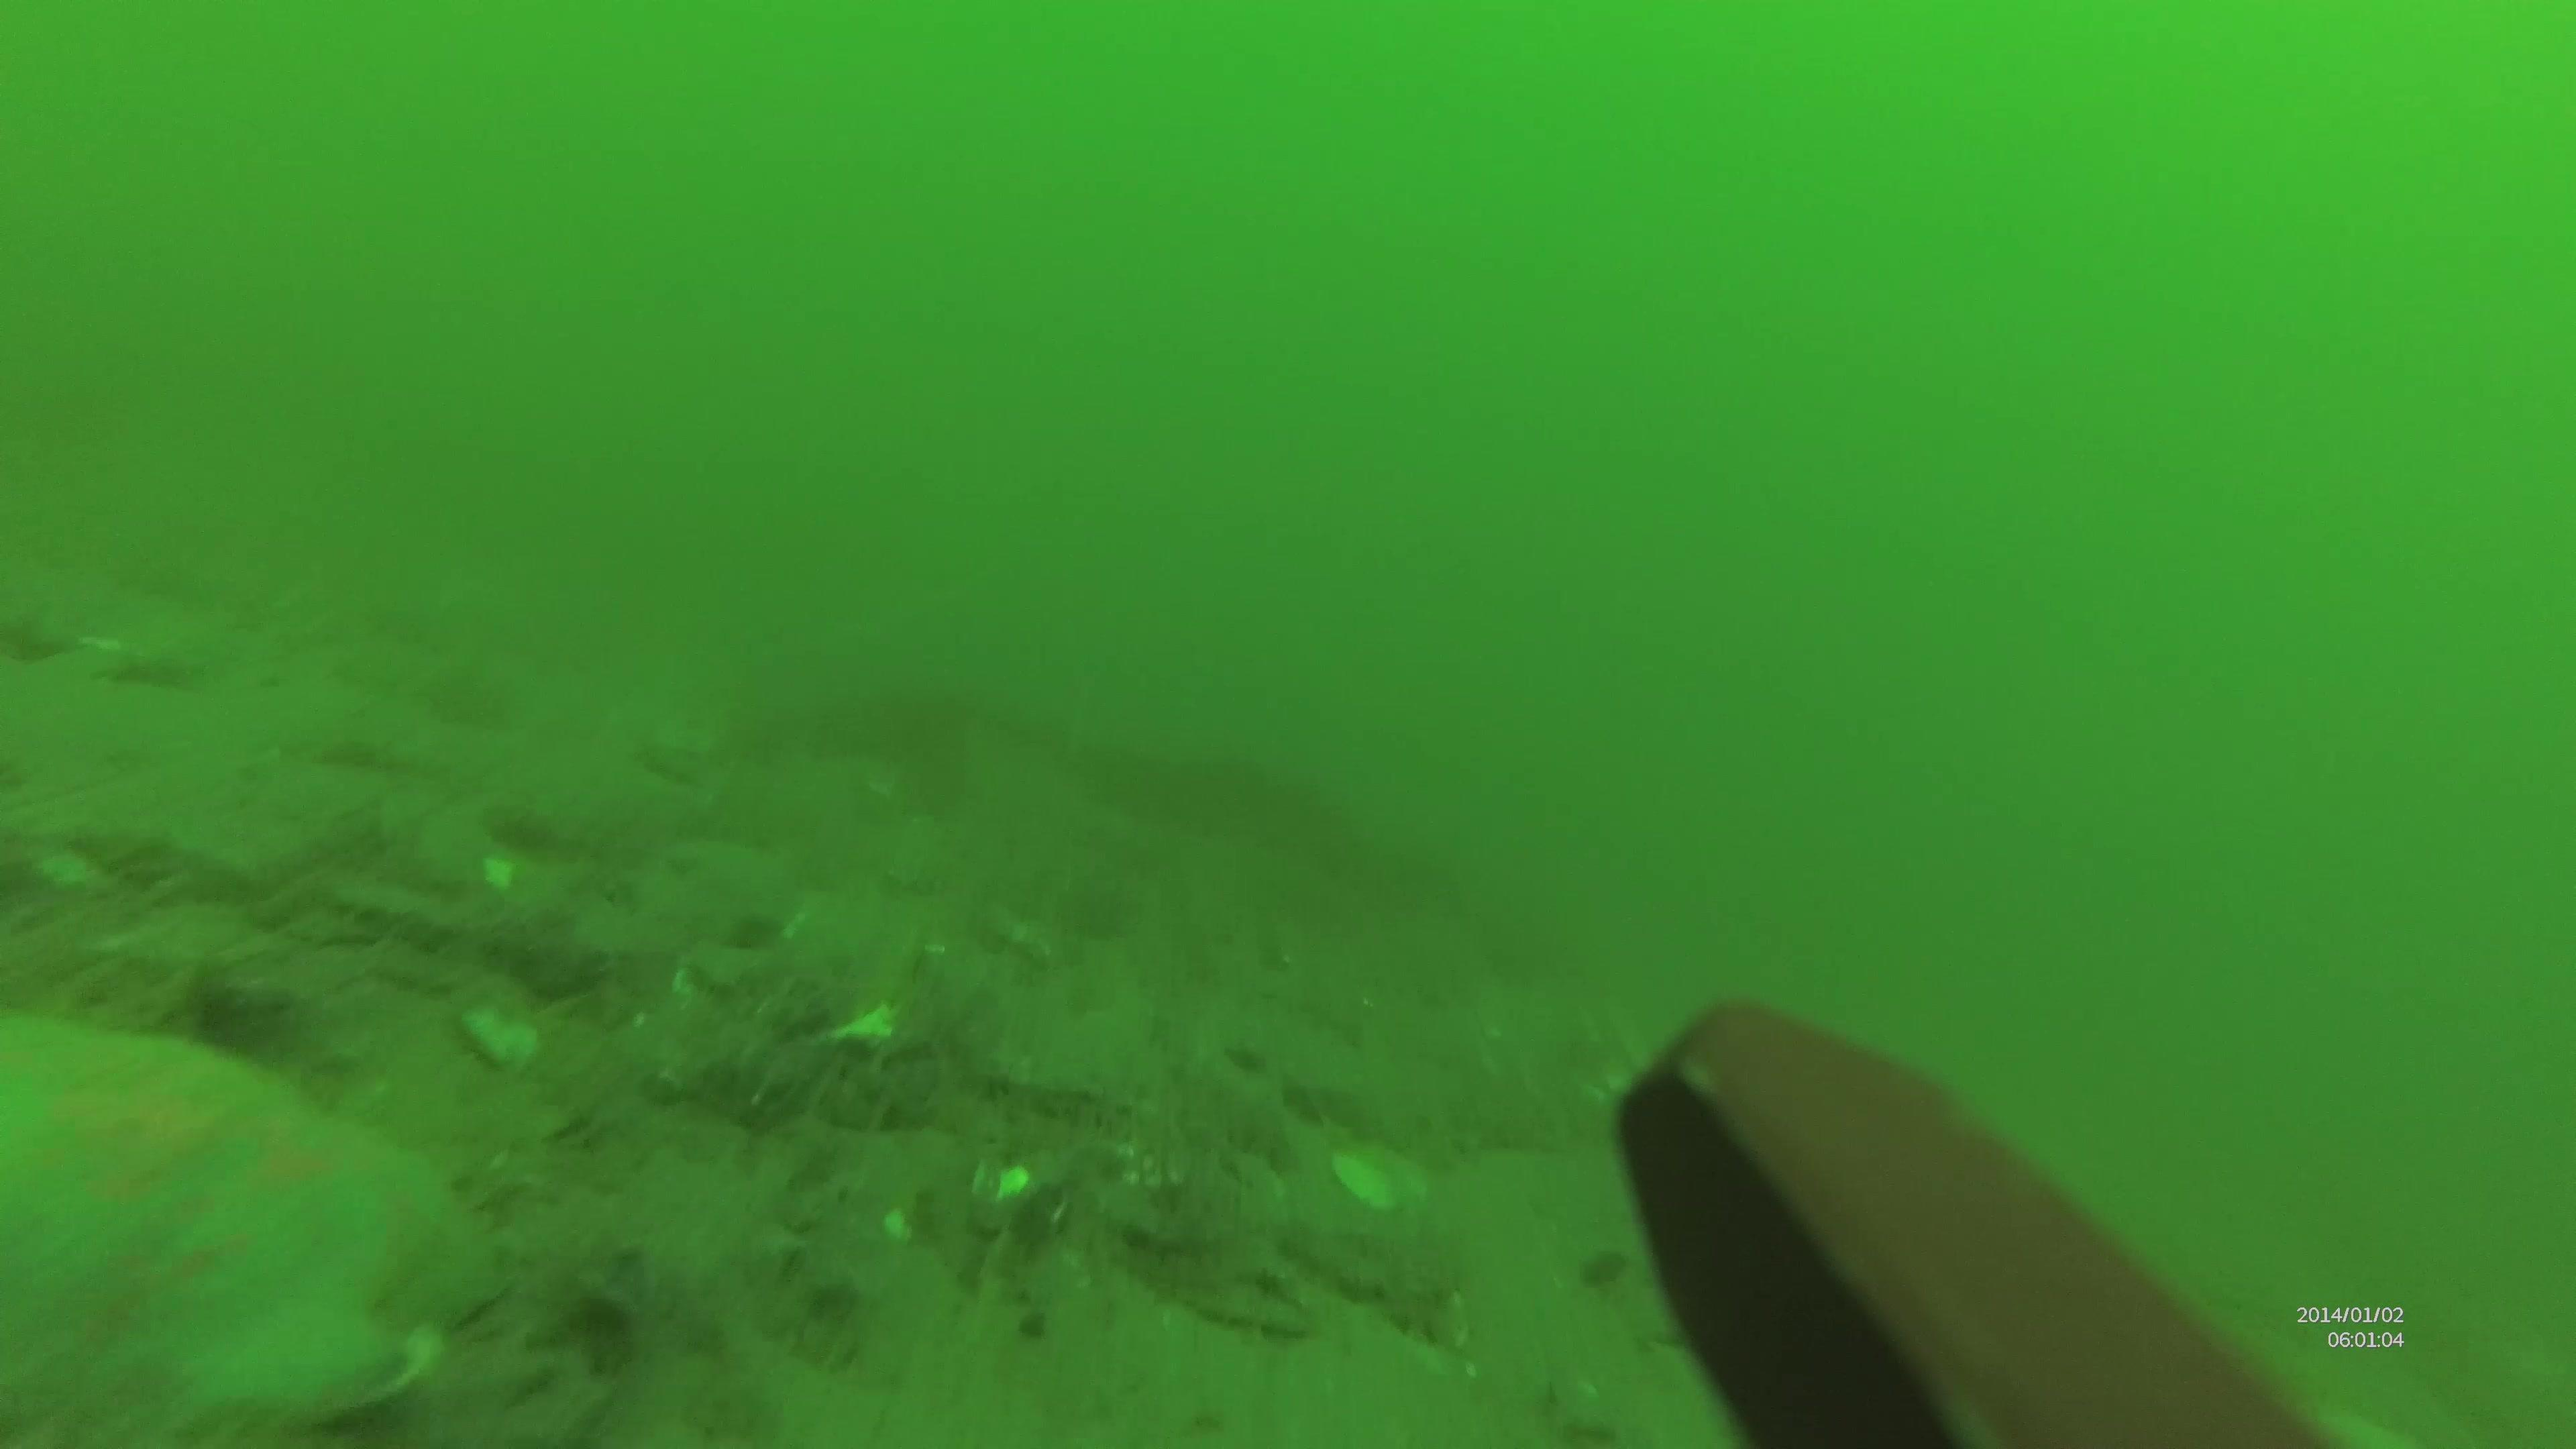scallop: (1318, 1143, 1421, 1219)
starfish: (2, 1010, 499, 1449)
